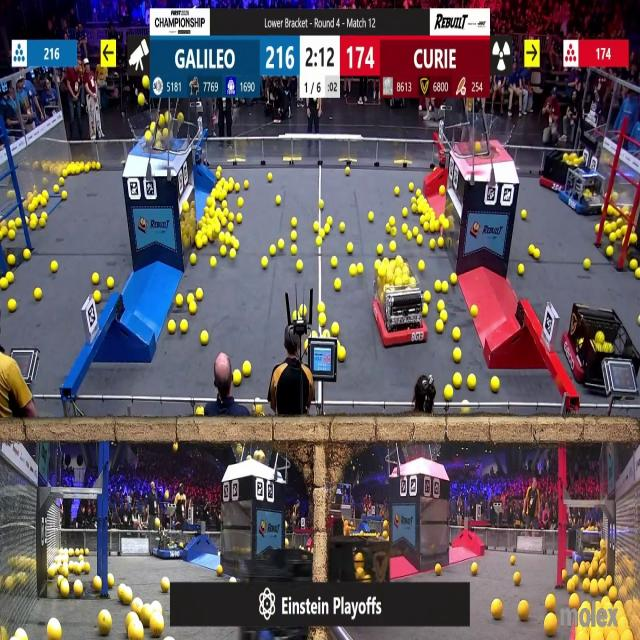ball_airborne: (142, 75, 149, 88), (138, 95, 146, 106), (474, 142, 481, 154), (145, 132, 151, 142), (178, 112, 184, 121), (164, 128, 169, 138), (150, 121, 155, 130), (161, 114, 165, 122)
ball_ground: (99, 613, 112, 637), (150, 618, 164, 638), (128, 624, 144, 640), (544, 616, 556, 637), (48, 621, 61, 640), (118, 586, 130, 605), (519, 601, 529, 620), (492, 600, 502, 619), (544, 594, 554, 612), (74, 582, 83, 598), (61, 583, 70, 599), (491, 377, 499, 393), (569, 595, 578, 609), (243, 361, 252, 375), (94, 576, 103, 590), (567, 580, 576, 594), (467, 375, 475, 390), (201, 333, 210, 346), (454, 374, 462, 388), (163, 580, 171, 594), (235, 372, 243, 386), (608, 588, 616, 602), (339, 348, 347, 361), (446, 386, 454, 399), (454, 348, 461, 362), (169, 320, 176, 334), (331, 322, 338, 336), (8, 300, 16, 312), (514, 572, 522, 584), (188, 303, 196, 315), (194, 288, 202, 300), (453, 328, 461, 340), (318, 314, 326, 326), (435, 320, 443, 332), (176, 293, 183, 306), (180, 320, 187, 333), (75, 563, 83, 574), (50, 262, 57, 274), (35, 288, 42, 300), (470, 563, 477, 575), (434, 280, 441, 292), (107, 277, 114, 289), (469, 306, 476, 318), (451, 274, 458, 286), (347, 242, 354, 254), (1, 278, 8, 290), (95, 290, 102, 302), (443, 281, 450, 293), (195, 236, 202, 248), (82, 562, 89, 574), (443, 219, 451, 229), (356, 265, 364, 275), (630, 261, 638, 271), (434, 564, 441, 575), (330, 256, 337, 267), (295, 262, 302, 273), (585, 260, 592, 271), (93, 274, 100, 285), (187, 292, 194, 303), (254, 406, 261, 417), (195, 408, 202, 419), (429, 220, 436, 231), (336, 279, 342, 291), (263, 256, 269, 268), (108, 574, 114, 586), (424, 290, 430, 302), (534, 248, 540, 260), (322, 328, 330, 337), (207, 232, 213, 244), (7, 254, 14, 264), (389, 242, 396, 252), (270, 246, 277, 256), (8, 231, 15, 241), (30, 220, 37, 230), (25, 249, 31, 260), (220, 246, 226, 257), (606, 246, 612, 257), (189, 253, 195, 264), (378, 244, 384, 255), (7, 273, 13, 284), (219, 233, 225, 244), (350, 266, 356, 277), (374, 262, 380, 273), (182, 202, 188, 213), (604, 222, 610, 233), (379, 269, 386, 278), (220, 190, 227, 199), (419, 262, 425, 272), (290, 232, 296, 242), (291, 217, 297, 227), (290, 245, 296, 255), (217, 565, 223, 575), (211, 256, 217, 266), (522, 210, 528, 220), (518, 266, 524, 276), (231, 249, 237, 259), (442, 312, 448, 322), (227, 221, 233, 231), (276, 196, 282, 206), (237, 213, 243, 223), (367, 212, 373, 222), (439, 238, 445, 248), (278, 240, 284, 250), (439, 302, 445, 312), (318, 200, 324, 210), (430, 240, 436, 250), (423, 305, 428, 317), (14, 218, 20, 228), (608, 232, 614, 242), (40, 218, 46, 228), (390, 216, 396, 226), (154, 519, 160, 529), (0, 229, 5, 241), (461, 408, 468, 416), (298, 306, 303, 317), (216, 167, 221, 178), (316, 238, 322, 247), (314, 222, 320, 231), (394, 186, 400, 195), (234, 241, 240, 250), (318, 304, 324, 313), (244, 180, 250, 189), (326, 216, 332, 225), (386, 223, 392, 232), (238, 199, 244, 208), (326, 224, 332, 233), (62, 190, 68, 199), (420, 214, 426, 223), (75, 167, 81, 176), (208, 199, 214, 208), (215, 208, 221, 217), (226, 182, 232, 191), (341, 221, 346, 231), (441, 185, 446, 195), (418, 236, 423, 246), (292, 311, 297, 321), (529, 246, 534, 256), (562, 569, 567, 579), (401, 224, 407, 232), (413, 205, 419, 213), (413, 226, 419, 234), (96, 164, 102, 172), (84, 164, 90, 172), (40, 199, 46, 207), (55, 184, 61, 192), (40, 212, 46, 220), (204, 207, 210, 215), (269, 173, 274, 182), (402, 208, 407, 217), (236, 182, 241, 191), (391, 229, 396, 238), (231, 576, 237, 583), (221, 202, 227, 209), (596, 224, 601, 232), (408, 233, 413, 241), (424, 222, 429, 230), (512, 557, 517, 565), (63, 170, 68, 178), (222, 209, 227, 217), (319, 230, 324, 238), (284, 538, 289, 546), (636, 270, 640, 279), (312, 329, 317, 336), (346, 168, 350, 176), (410, 182, 414, 190), (417, 188, 421, 196), (61, 178, 65, 185)
goal: (129, 111, 188, 153), (459, 118, 514, 158)
robot_blue: (559, 158, 605, 214), (152, 530, 188, 558)
robot_red: (561, 308, 635, 397), (372, 264, 426, 347), (538, 148, 568, 192)
